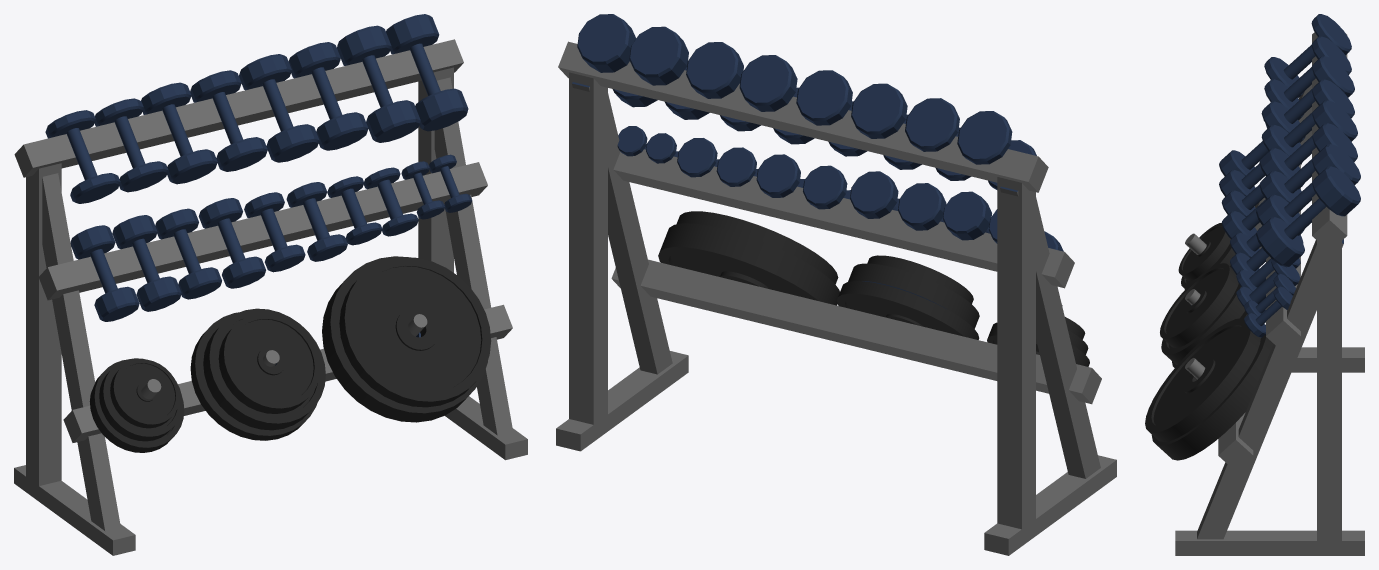
The model's file is weightRack.fbx.
3 views of the same model, side by side, from view 1: azimuth 30°, elevation 25°; view 2: azimuth 150°, elevation 25°; view 3: azimuth 270°, elevation 25° (orthographic). The views are drawn at different scales.
Parts seen in each view (by area): view 1: Weight Rack; view 2: Weight Rack; view 3: Weight Rack.
Boxes of the visible parts, x1,y1,x2,y2 form: Weight Rack: (14, 14, 527, 555); Weight Rack: (556, 14, 1116, 555); Weight Rack: (1145, 14, 1364, 555).
Bounding box in the file's own units: 83.27 × 38.43 × 71.72.
